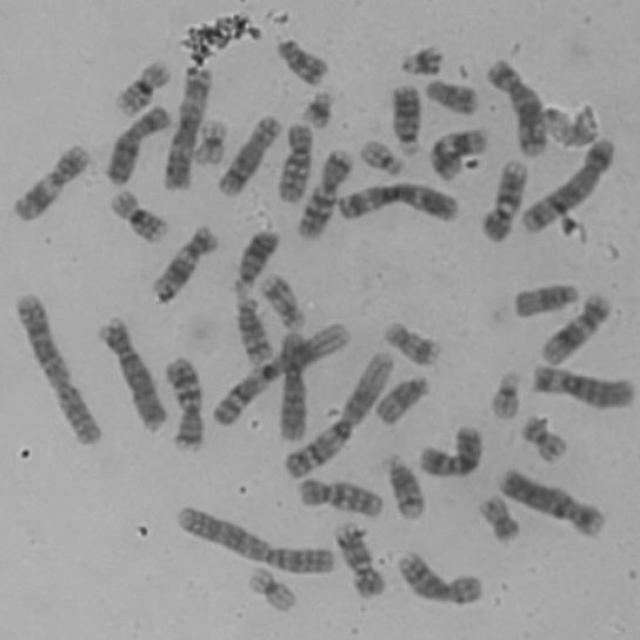A1: (207, 317, 354, 428), (279, 347, 395, 481)
A2: (10, 290, 104, 448), (170, 501, 338, 576)
A3: (161, 64, 214, 192), (333, 178, 462, 226)
B4: (94, 312, 168, 432), (493, 464, 608, 540)
B5: (518, 130, 618, 234), (482, 54, 550, 159)
C10: (293, 474, 386, 520), (273, 120, 316, 204)
C11: (8, 140, 93, 223), (424, 122, 490, 184)
C12: (146, 222, 220, 304), (537, 289, 614, 367)
C6: (526, 358, 639, 412), (273, 324, 311, 443)
C7: (292, 144, 355, 241), (159, 352, 206, 452)
C8: (214, 112, 284, 197), (393, 546, 487, 609)
C9: (476, 156, 530, 243), (331, 519, 388, 598)
D13: (230, 225, 284, 290), (386, 81, 423, 157)
D14: (380, 450, 429, 521), (232, 293, 274, 367)
D15: (371, 372, 432, 426), (507, 280, 581, 320)
E16: (112, 56, 172, 118), (106, 186, 168, 244)
E17: (379, 316, 441, 368), (255, 270, 307, 331)
E18: (272, 34, 331, 86), (420, 72, 481, 116)
F19: (244, 563, 298, 613), (188, 113, 231, 167)
F20: (515, 412, 571, 464), (474, 492, 521, 544)
G21: (395, 39, 447, 77), (296, 86, 338, 132)
G22: (357, 135, 407, 179), (484, 367, 524, 422)
X: (101, 100, 174, 188), (413, 420, 486, 480)
